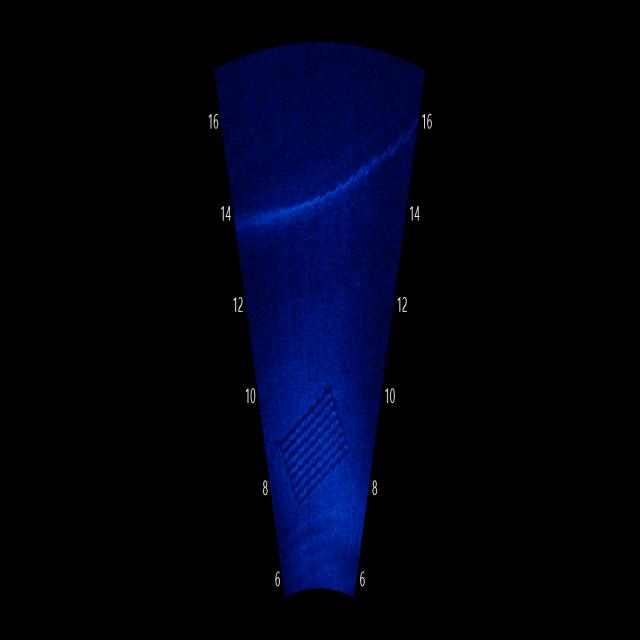square: (267, 370, 362, 514)
